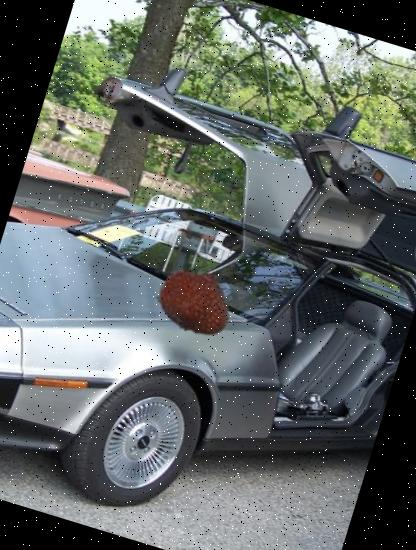Strawberry: (145, 250, 247, 352)
